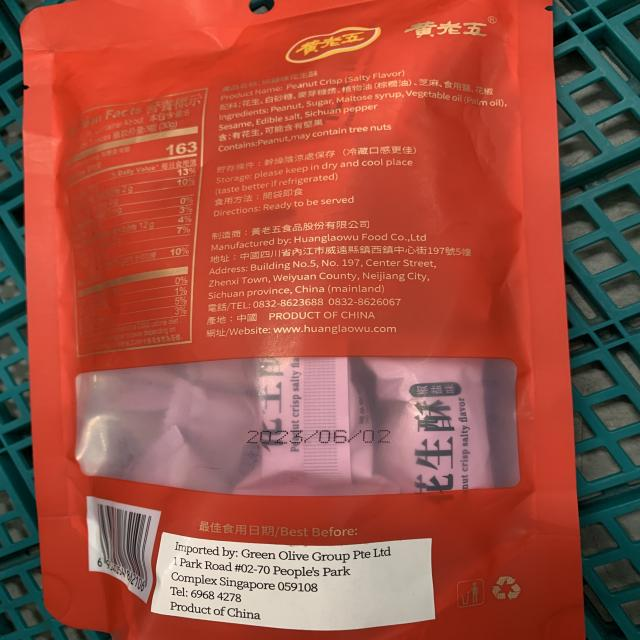object_name: (21, 8, 572, 640)
